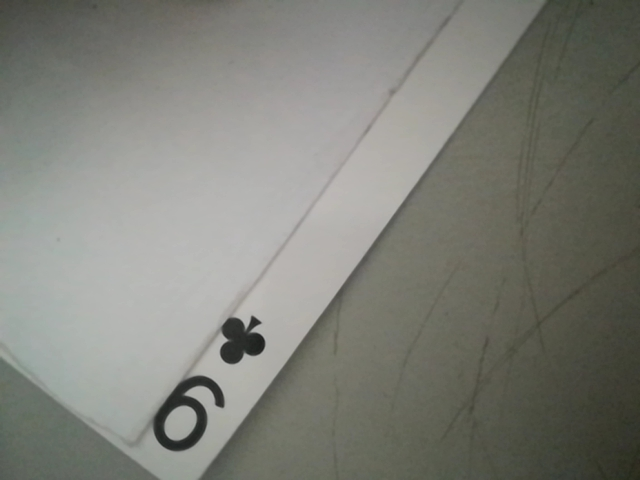mh 9: (138, 300, 278, 476)
